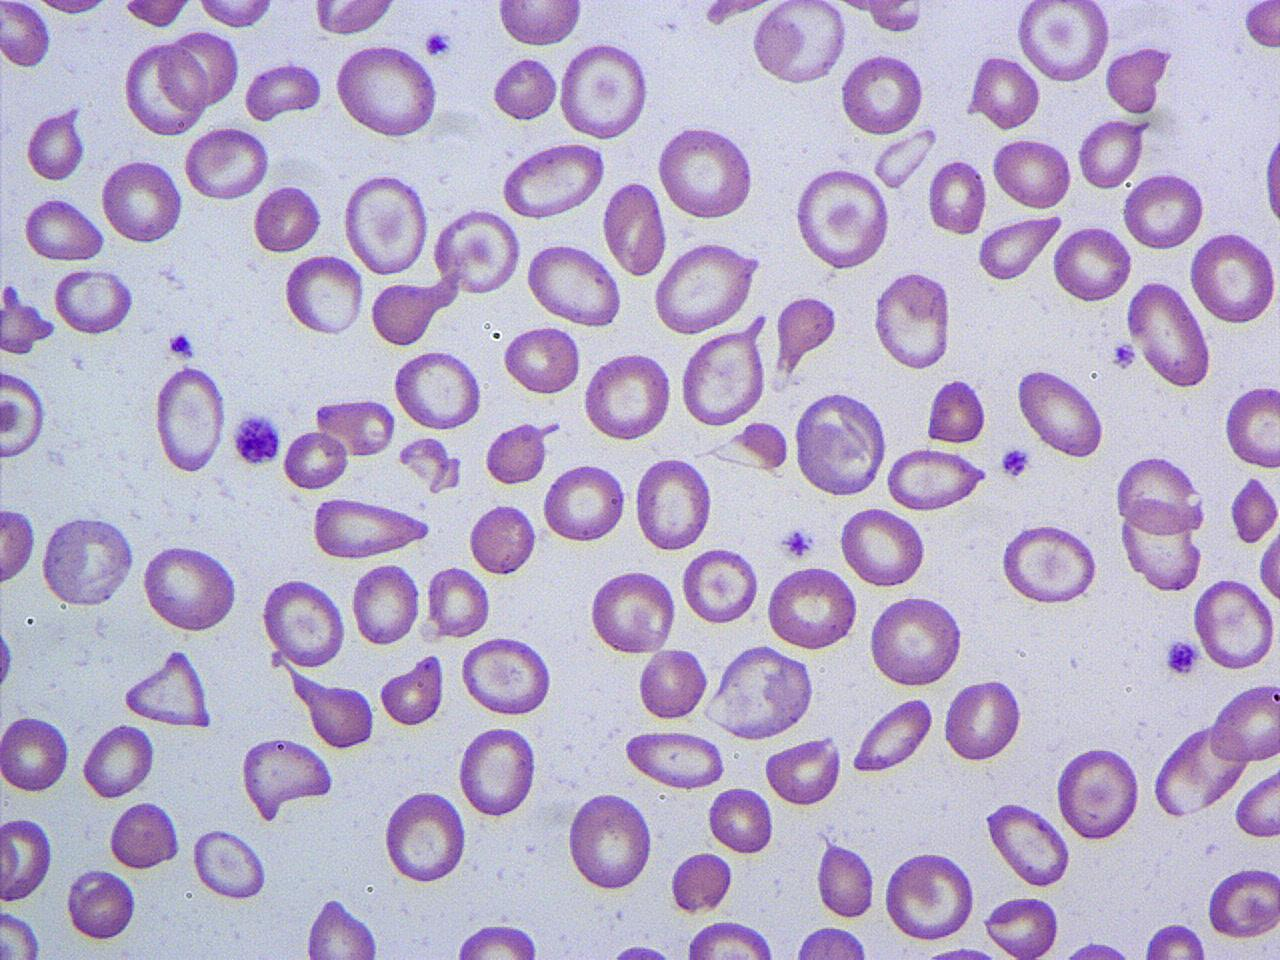Platelets: (229, 409, 283, 470), (1161, 636, 1203, 678), (998, 444, 1032, 482), (782, 525, 814, 562), (422, 27, 453, 61), (1111, 338, 1139, 372), (166, 331, 195, 358)
RBC: (700, 642, 816, 740), (334, 40, 440, 140), (792, 389, 888, 499), (792, 165, 890, 271), (654, 240, 758, 337), (1123, 278, 1213, 388), (655, 123, 757, 221), (864, 594, 966, 690), (343, 168, 430, 278), (557, 39, 651, 141), (39, 514, 137, 610), (565, 790, 654, 894), (678, 323, 765, 430), (140, 543, 240, 635), (998, 521, 1103, 607), (1150, 724, 1244, 820), (580, 349, 674, 443), (882, 849, 978, 942), (500, 139, 608, 221), (1014, 364, 1106, 459), (1188, 229, 1278, 326), (525, 240, 624, 328), (1055, 744, 1141, 844), (750, 1, 848, 88), (871, 268, 951, 372), (384, 787, 468, 886), (764, 564, 858, 652), (1117, 498, 1203, 594), (239, 736, 336, 822), (259, 576, 348, 669), (458, 634, 555, 718), (1012, 1, 1111, 84), (1193, 574, 1275, 674), (588, 567, 677, 657), (392, 345, 484, 434), (435, 206, 522, 298), (154, 363, 226, 475), (123, 40, 206, 137), (634, 454, 714, 554), (310, 496, 431, 562), (456, 724, 538, 820), (984, 800, 1072, 888), (838, 503, 927, 590), (99, 156, 184, 246), (121, 646, 213, 730), (838, 51, 924, 138), (541, 459, 627, 546), (282, 249, 365, 339), (942, 674, 1022, 766), (182, 122, 272, 204), (1120, 169, 1206, 252), (1116, 455, 1204, 535), (849, 693, 934, 775), (886, 446, 988, 513), (1051, 222, 1133, 306), (602, 178, 669, 277), (681, 545, 760, 627), (990, 134, 1073, 212), (623, 727, 726, 790), (163, 28, 239, 111), (1209, 678, 1279, 766), (350, 560, 420, 646), (80, 720, 156, 800), (51, 264, 135, 337), (0, 710, 71, 796), (502, 323, 582, 398), (976, 212, 1059, 283), (191, 824, 268, 902), (968, 52, 1041, 133), (22, 194, 106, 264), (764, 732, 842, 808), (1205, 863, 1279, 942), (65, 866, 138, 941), (314, 392, 398, 458), (378, 649, 445, 730), (466, 501, 536, 576), (108, 799, 179, 871), (638, 647, 708, 722), (242, 59, 324, 123), (706, 782, 774, 857), (369, 277, 440, 349), (252, 182, 322, 255), (1, 812, 55, 906), (982, 893, 1059, 959), (427, 562, 492, 640), (1222, 382, 1280, 469), (926, 155, 988, 237), (816, 838, 878, 920), (1104, 43, 1172, 116), (1076, 116, 1144, 190), (302, 896, 380, 960), (24, 106, 86, 184), (492, 53, 560, 123), (0, 365, 49, 461), (308, 681, 376, 749), (494, 0, 584, 50), (872, 124, 938, 191), (283, 427, 350, 491), (670, 849, 734, 916), (926, 376, 988, 445), (484, 419, 546, 485), (682, 918, 778, 960), (775, 294, 838, 357), (0, 0, 53, 71), (1229, 473, 1279, 546), (1233, 764, 1279, 842), (451, 922, 543, 960), (308, 0, 402, 37), (0, 506, 36, 589), (790, 924, 872, 960), (1139, 922, 1209, 959), (194, 0, 277, 30), (117, 0, 197, 30), (862, 0, 926, 36), (1260, 122, 1280, 238), (0, 906, 43, 958), (1257, 516, 1280, 614), (1241, 0, 1279, 52), (598, 939, 682, 960), (30, 0, 120, 19)
WBC: (706, 646, 814, 740)
